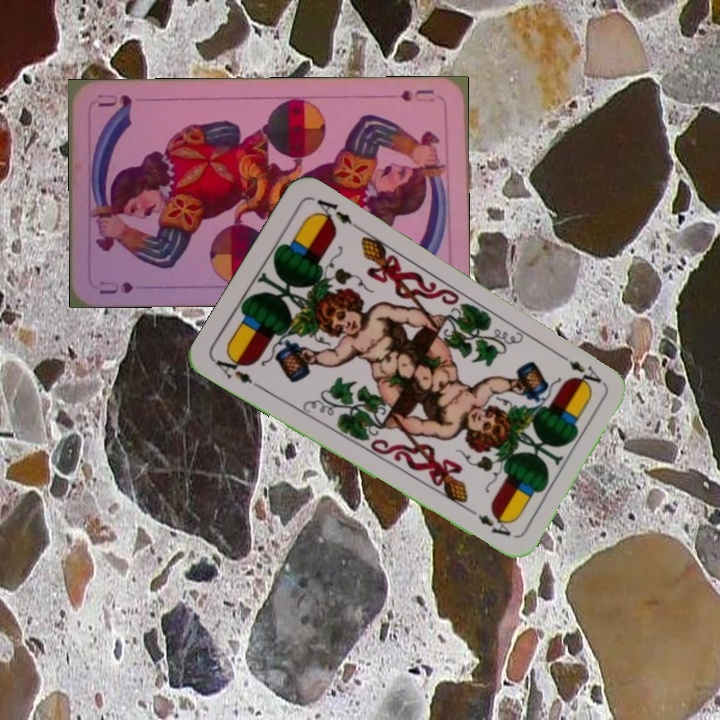EA: (212, 349, 264, 391), (553, 349, 604, 386)
SU: (95, 277, 136, 297), (396, 85, 437, 105)
